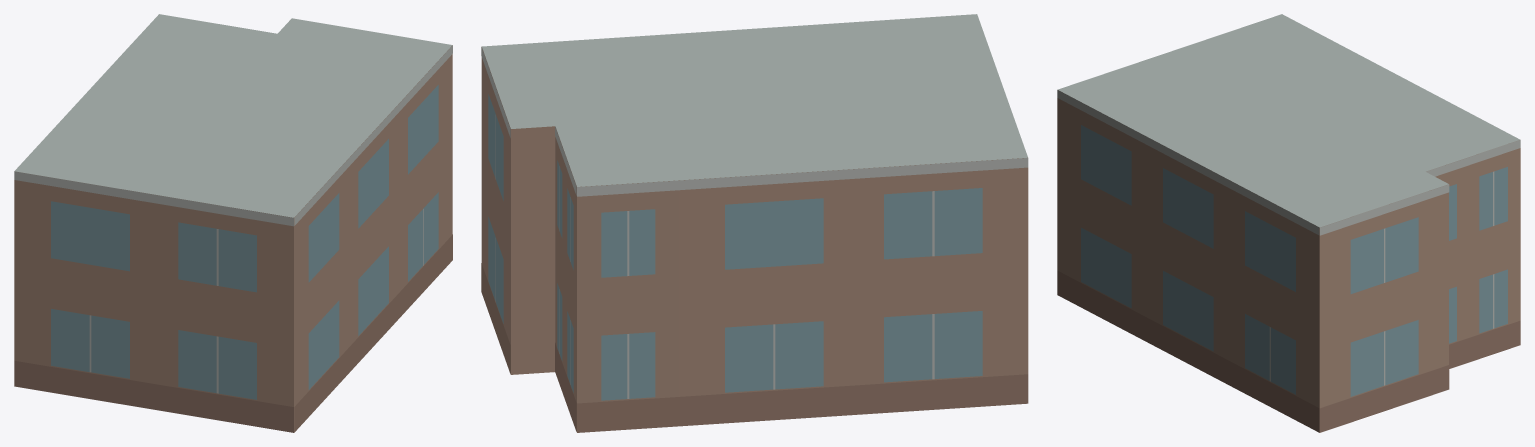
File: survey-upis-32773244.glb
3 views of the same model, side by side, from view 1: azimuth 30°, elevation 25°; view 2: azimuth 150°, elevation 25°; view 3: azimuth 270°, elevation 25° (orthographic). The views are drawn at different scales.
Visible parts, largest first — view 1: survey-upis-32773244.tmp; view 2: survey-upis-32773244.tmp; view 3: survey-upis-32773244.tmp.
Part boxes in pixels (x1=…): survey-upis-32773244.tmp: x1=14, y1=14, x2=452, y2=432; survey-upis-32773244.tmp: x1=481, y1=14, x2=1028, y2=432; survey-upis-32773244.tmp: x1=1057, y1=14, x2=1520, y2=432.
Bounding box in the file's own units: 13.61 × 6.1 × 12.48.
